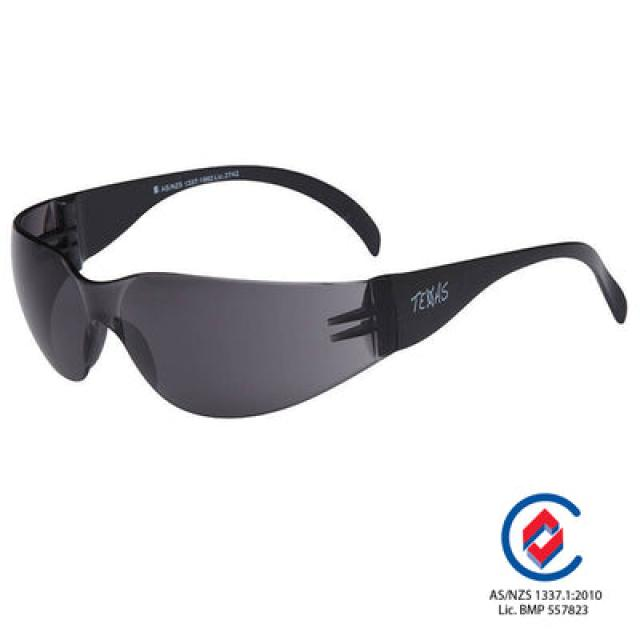Protective Glasses: (5, 107, 640, 482)
